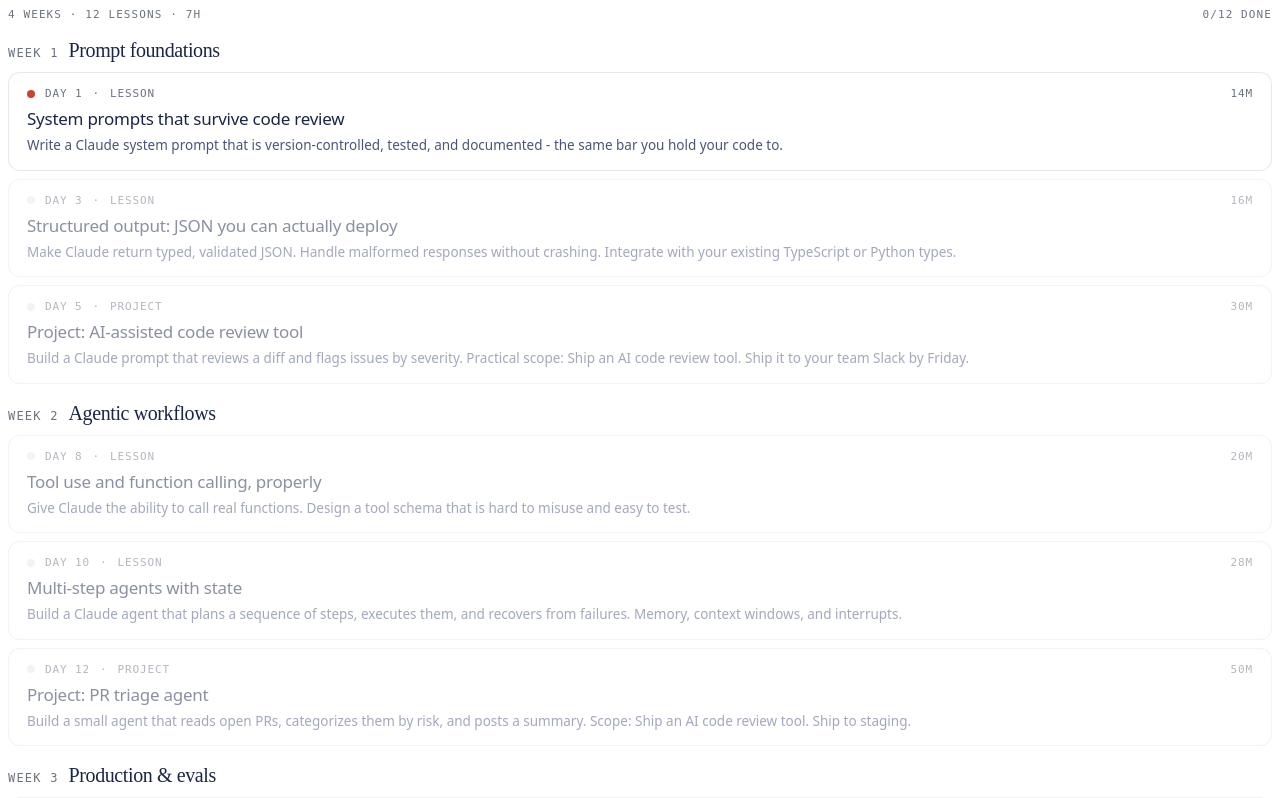
ProgressTracker › toggles completion off when a completed lesson is clicked
Click the 1st button.
click(60, 94)  # box [8,72,1272,170]
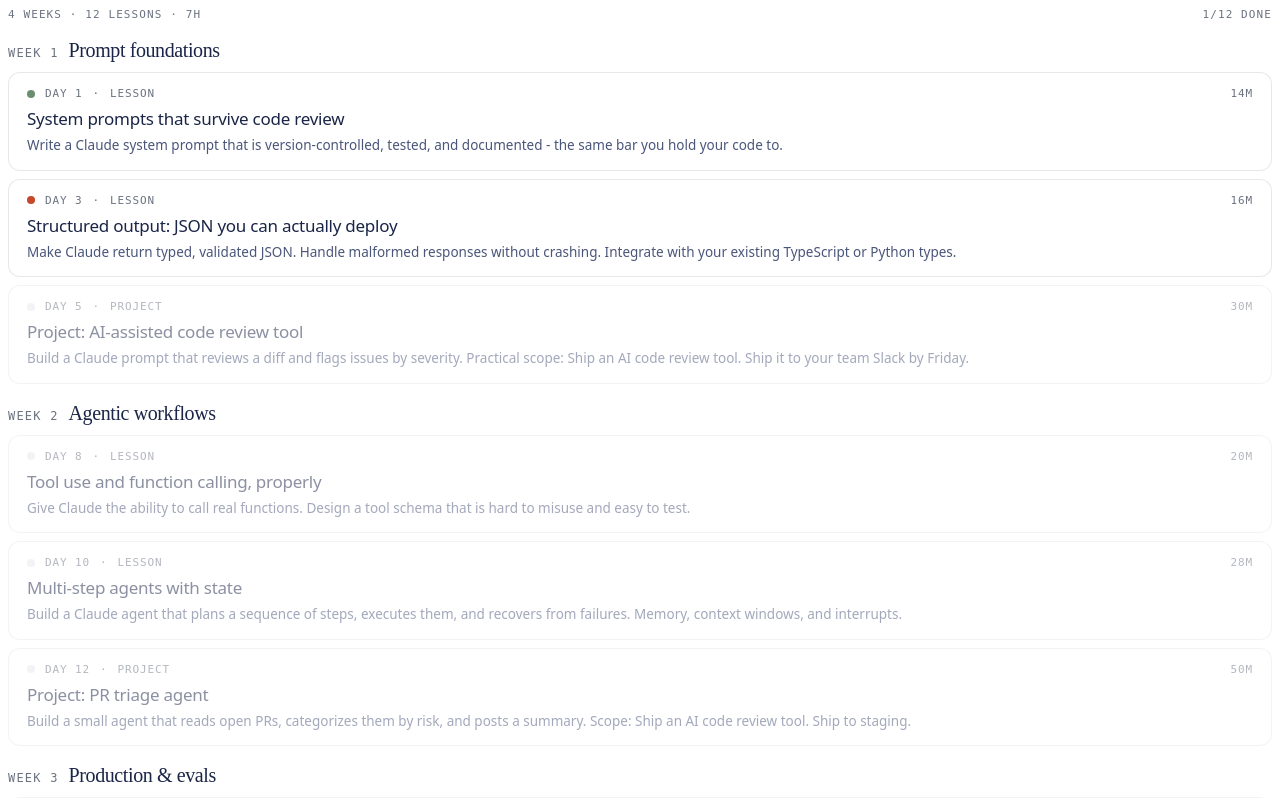
Check: the text "1/12 done" is shown, box [1202,8,1272,21]
Click the 1st button.
click(60, 94)  # box [8,72,1272,170]
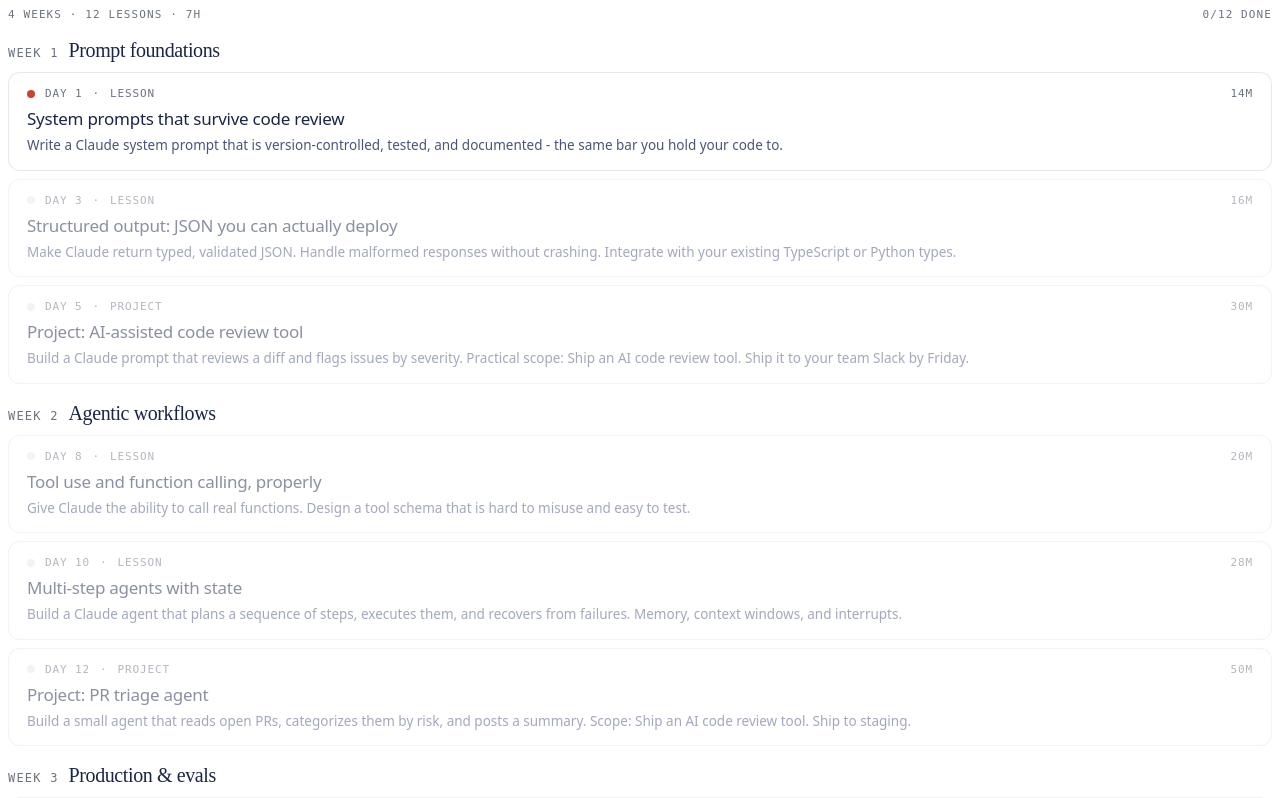
Check: the text "0/12 done" is shown, box [1202,8,1272,21]
